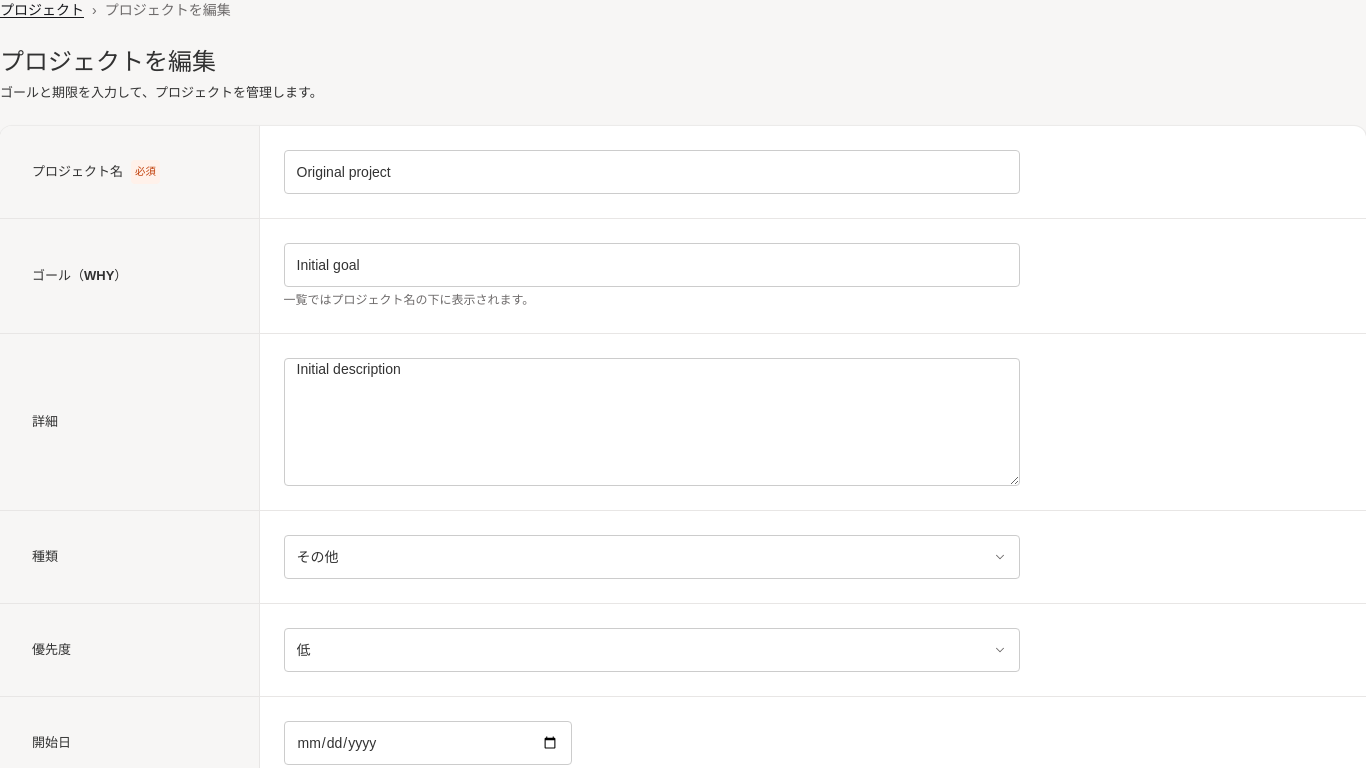
Scenario: requires explicit discard confirmation before loading the current revision
This screenshot has width=1366, height=768.
Replace the text in the field labelled "プロジェクト名 必須" with "My draft" at (652, 172), box [284,150,1020,194]
(page scrolled)
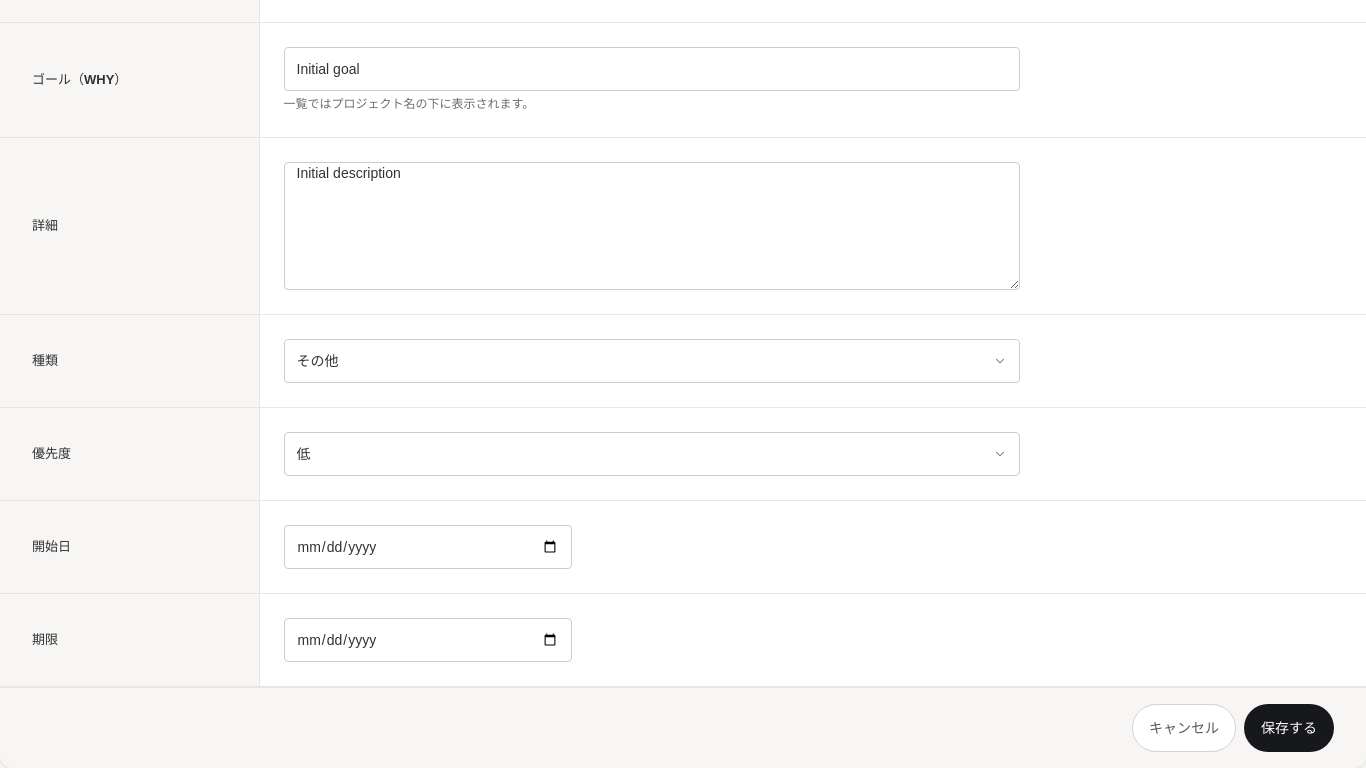
Click the button "保存する" at (1289, 728), box [1244,704,1334,752]
(page scrolled)
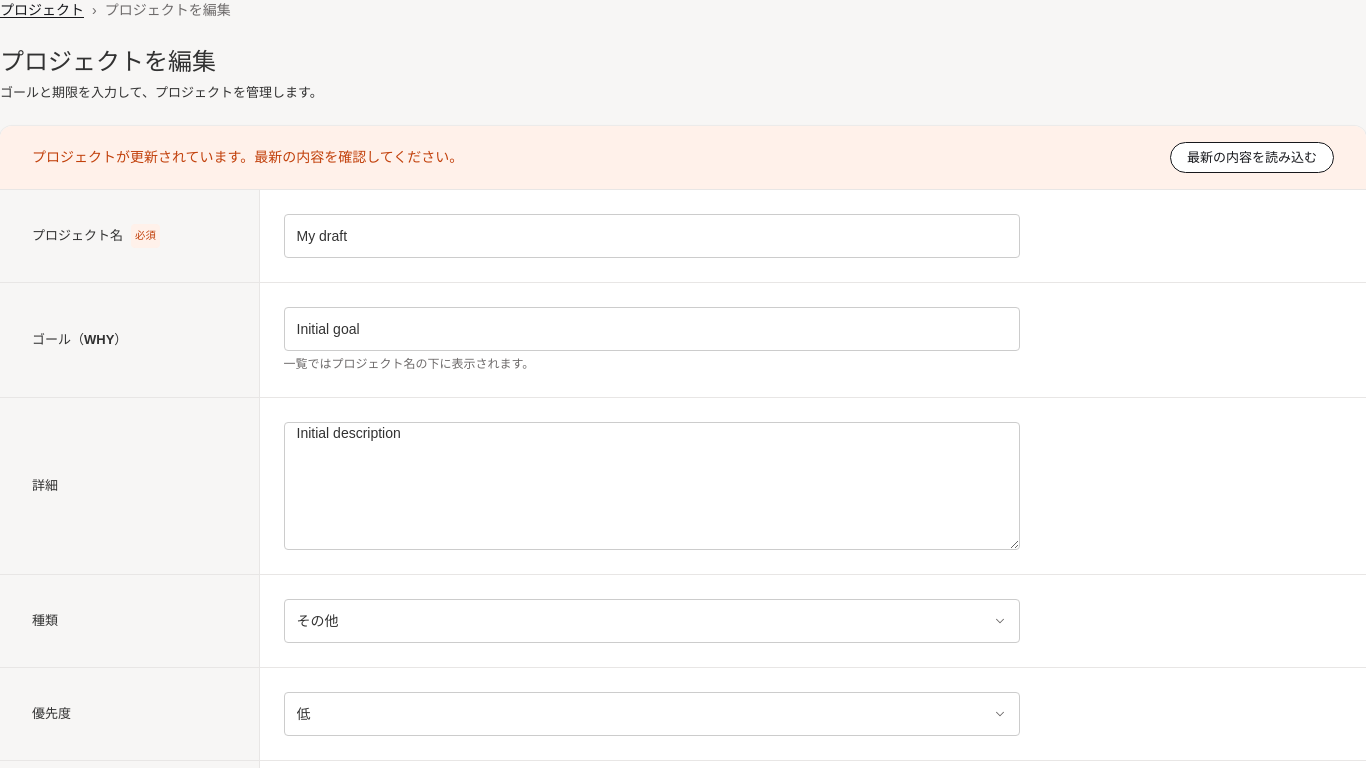
Result: the button "最新の内容を読み込む" is shown
Click the button "最新の内容を読み込む" at (1252, 158), box [1170,142,1334,173]
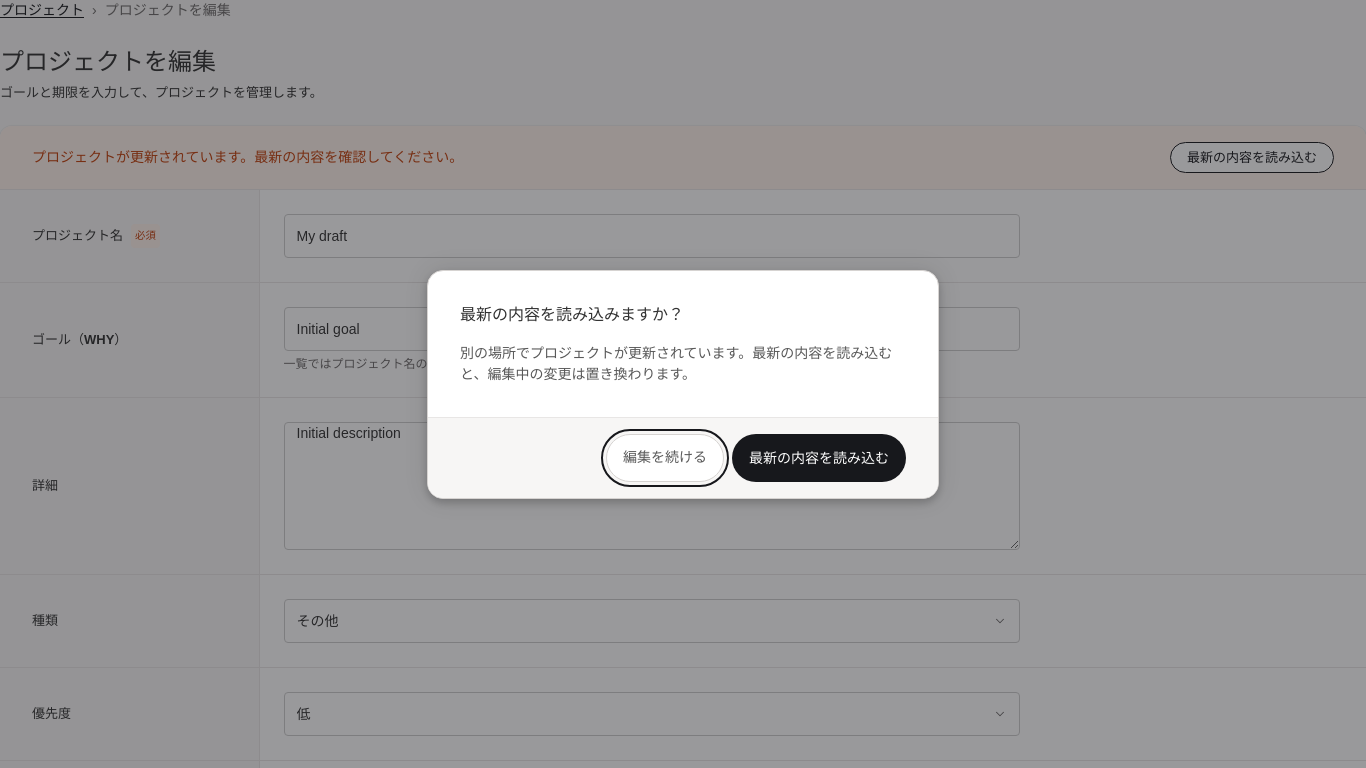
Click the button "最新の内容を読み込む" at (819, 458), box [732,434,906,482]
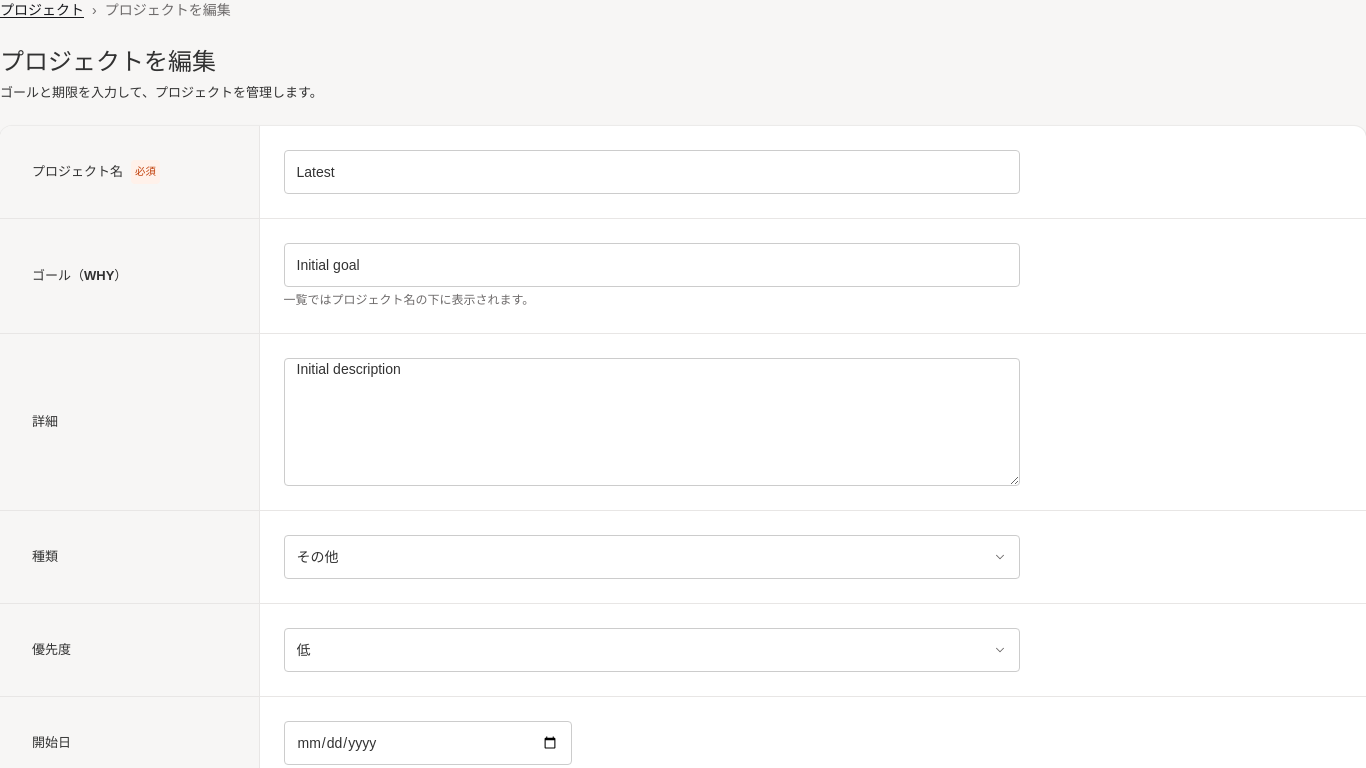
Result: the field labelled "プロジェクト名 必須" holds "Latest" at [284,150,1020,194]
